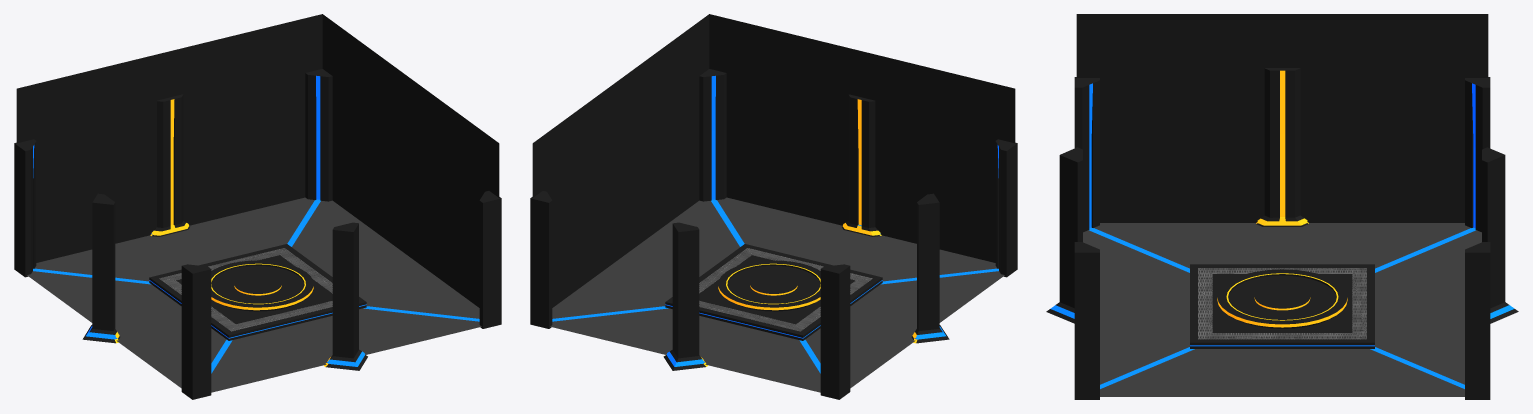
File: escenario.glb
3 views of the same model, side by side, from view 1: azimuth 30°, elevation 25°; view 2: azimuth 150°, elevation 25°; view 3: azimuth 270°, elevation 25° (orthographic). The views are drawn at different scales.
Parts seen in each view (by area): view 1: Cube.003; view 2: Cube.003; view 3: Cube.003.
Boxes of the visible parts, x1,y1,x2,y2 form: Cube.003: [14, 14, 501, 399]; Cube.003: [530, 14, 1017, 399]; Cube.003: [1046, 14, 1518, 399].
Bounding box in the file's own units: 101 × 52.78 × 107.
Materials: 5 (1 with a texture image).
